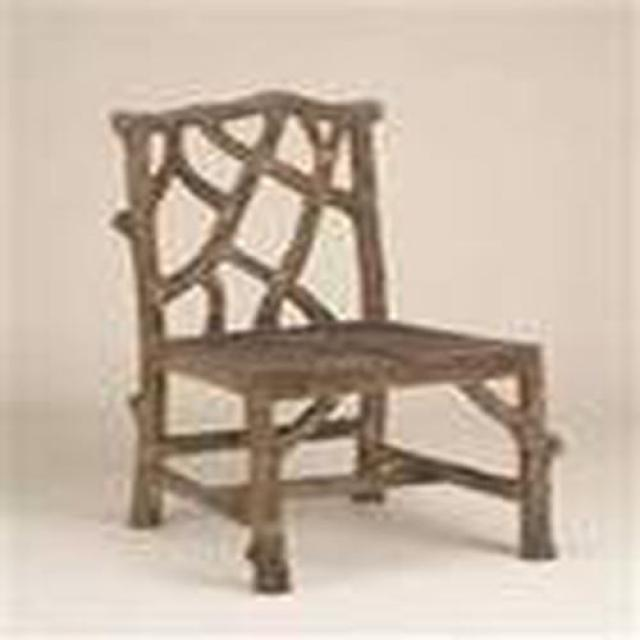chair: (101, 87, 561, 596)
